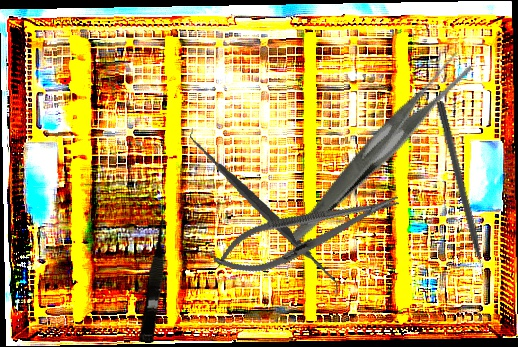Dressing Forceps: (252, 49, 506, 242)
Micro Scissor: (138, 211, 175, 345)
Needle Holder: (207, 178, 407, 287)
Pusher: (434, 100, 490, 288)
Spatula Surgical: (177, 128, 352, 295)
